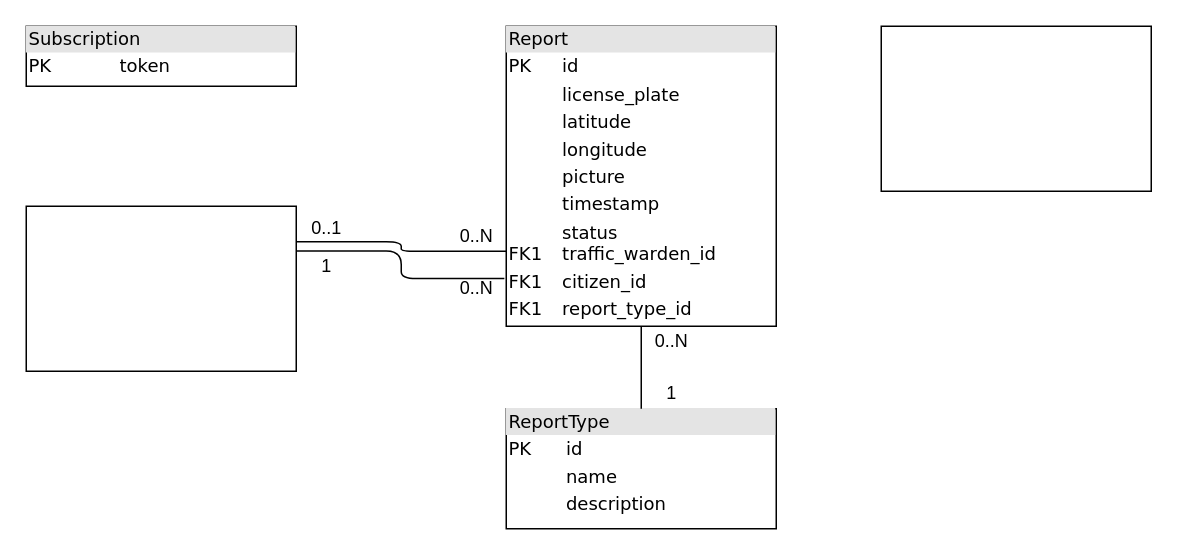
Some shapes in this 1178 by 555 pixel diagram are drawn without their labels. The shapes that lost their labels are listed below. From the top down, each one's box as (x1, y1, x2, y2) in pixels, then its label:
(880, 25, 1151, 191): Suggestion PK id latitude longitude description because
(25, 205, 296, 371): User PK fiscal_code email password user_type SBORRA
